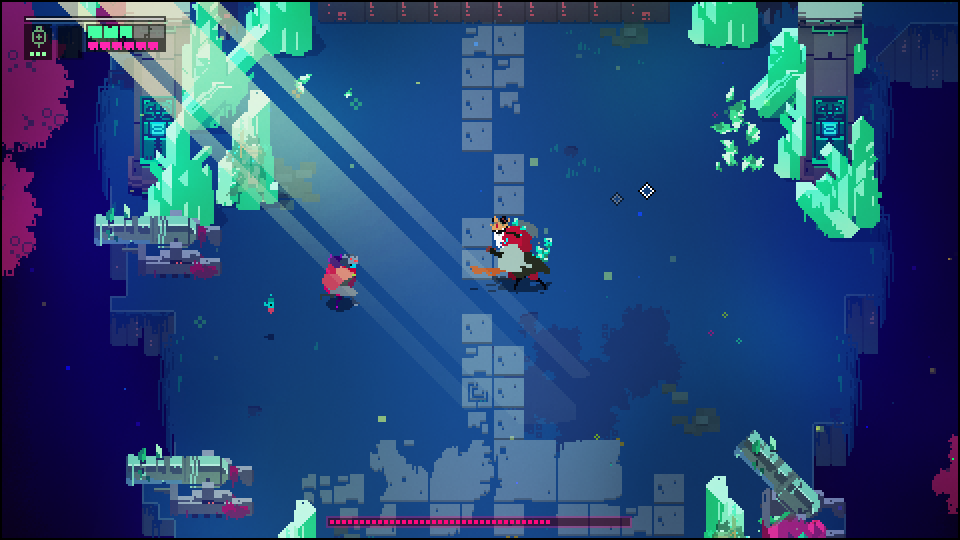hanged_man: (468, 208, 547, 285)
player: (327, 251, 359, 307)
